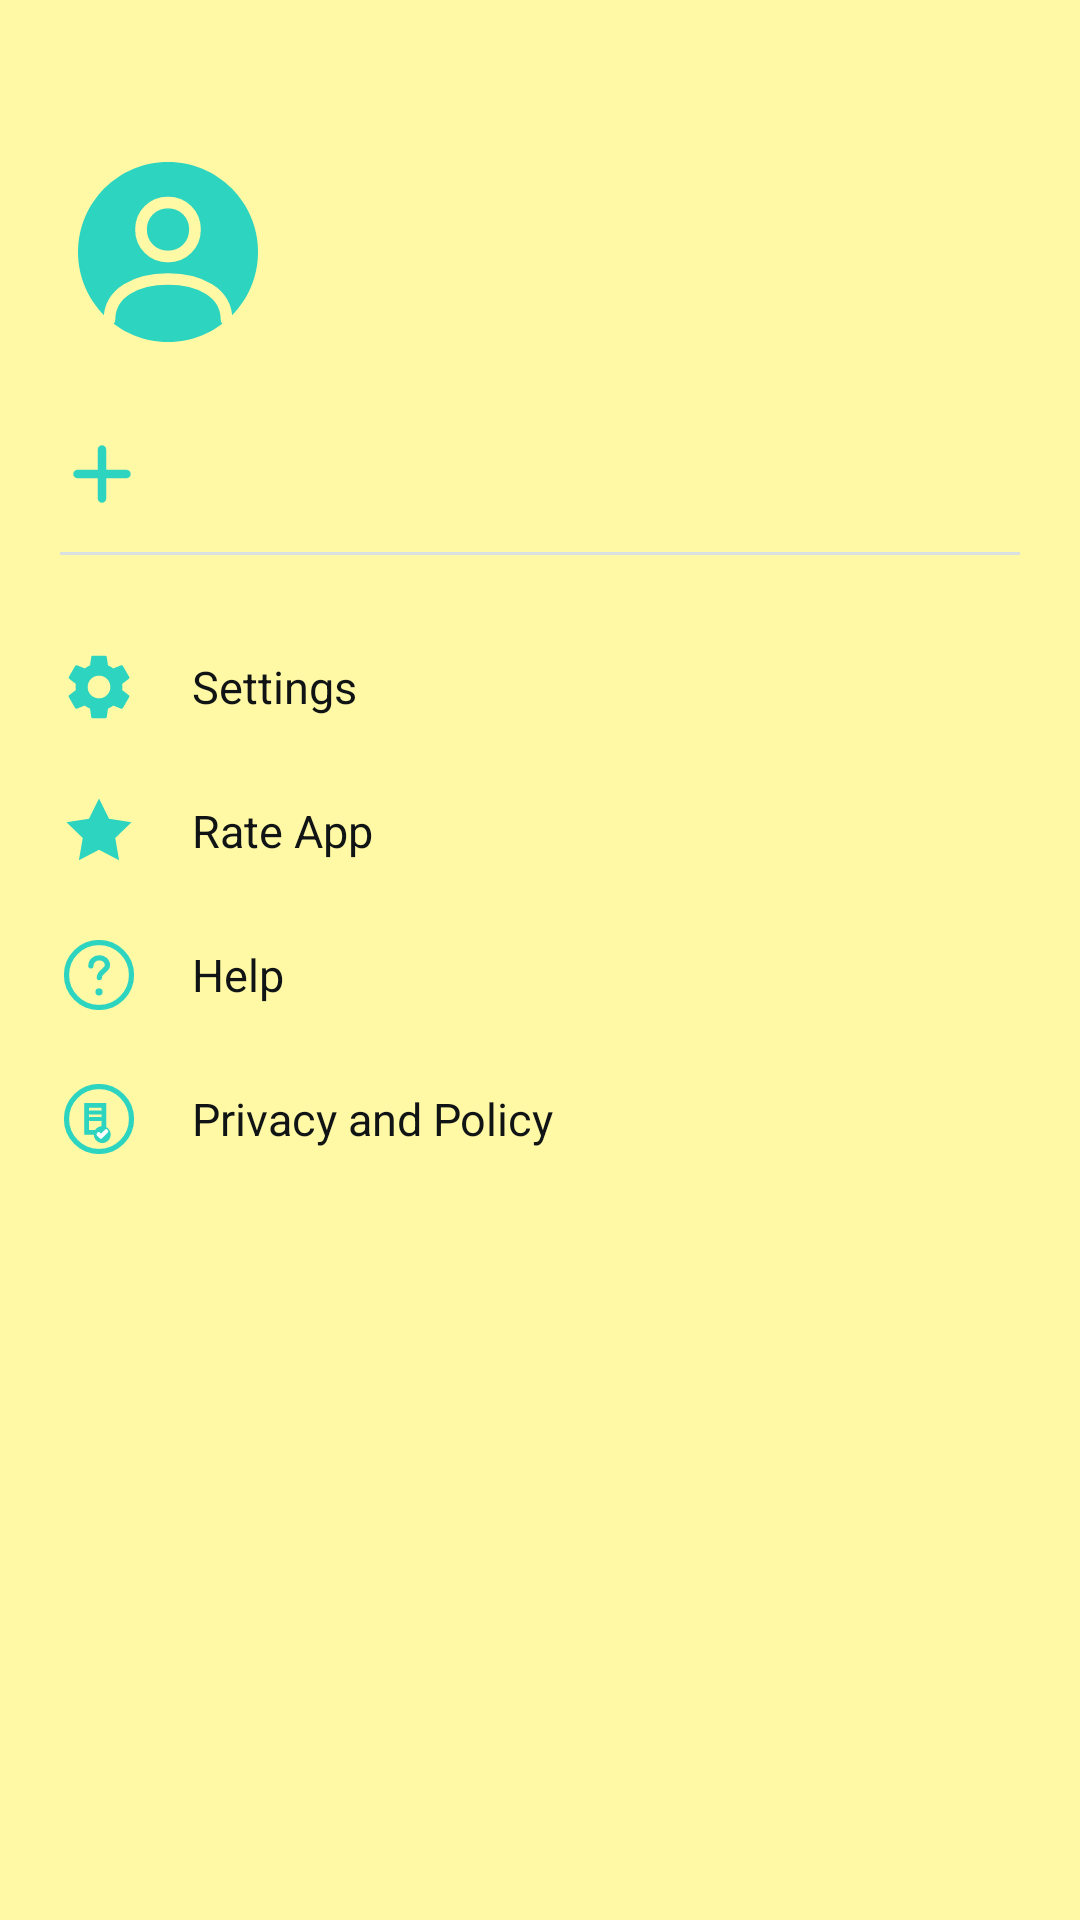

Where to tap for icons on this 1080x1920 app screen, as [x,y]:
Add profile: [102,474]
rate star: [99,829]
